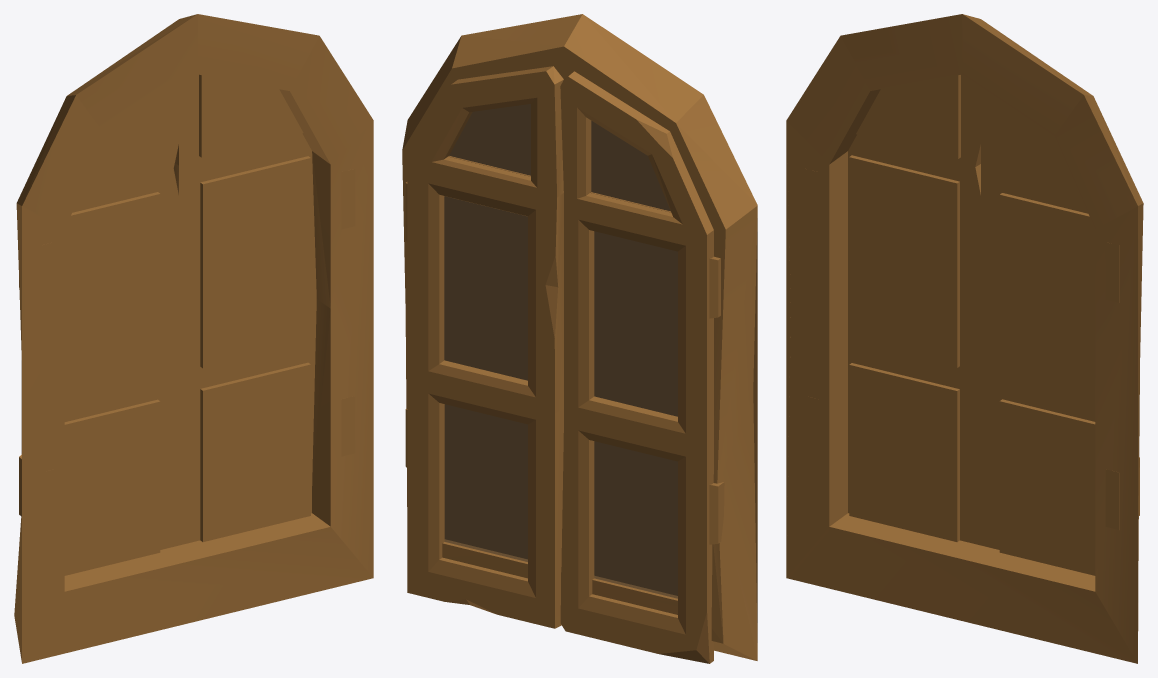
Rendered from window.fbx.
3 renders of one model, left to right at view 1: azimuth 30°, elevation 25°; view 2: azimuth 150°, elevation 25°; view 3: azimuth 330°, elevation 25°, orthographic.
Visible parts, largest first — view 1: window; view 2: window; view 3: window.
Boxes of the visible parts, x1=… form: window: x1=14, y1=14, x2=373, y2=663; window: x1=402, y1=14, x2=757, y2=663; window: x1=786, y1=14, x2=1143, y2=663.
Bounding box in the file's own units: 100 × 166 × 12.69.
